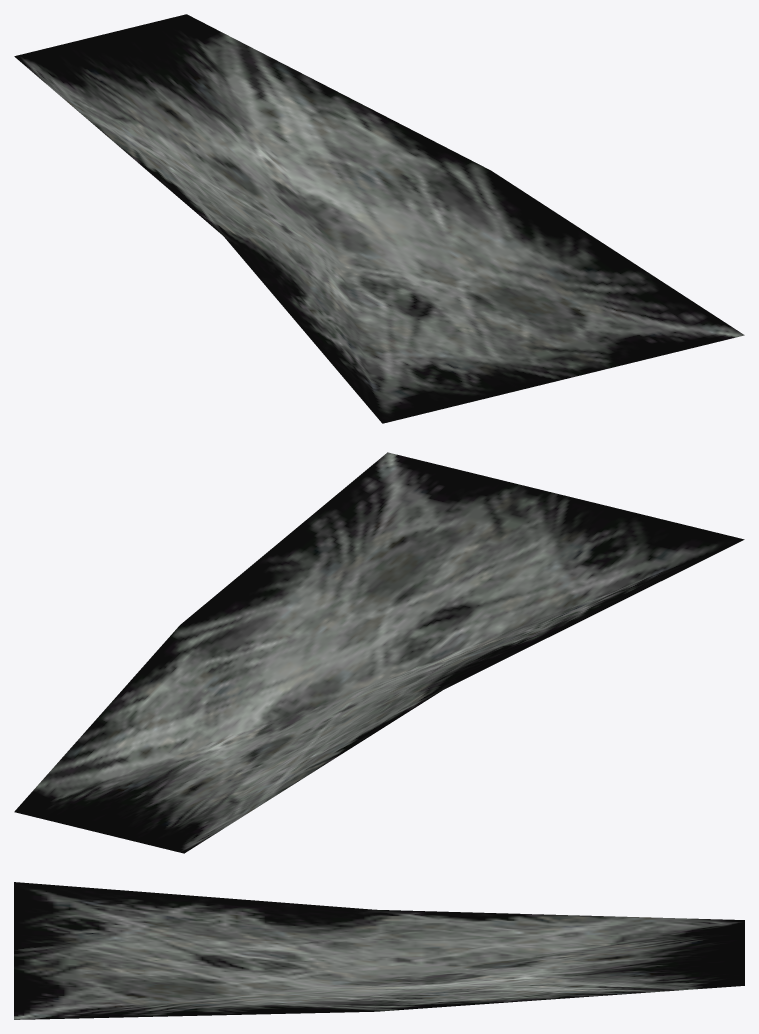
File: S_Build_Forest069.FBX
3 renders of one model, top to bottom at view 1: azimuth 30°, elevation 25°; view 2: azimuth 150°, elevation 25°; view 3: azimuth 270°, elevation 25°, orthographic. The views are drawn at different scales.
Visible parts, largest first — view 1: S_Build_Forest069; view 2: S_Build_Forest069; view 3: S_Build_Forest069.
Boxes of the visible parts, x1=… form: S_Build_Forest069: x1=14, y1=14, x2=744, y2=423; S_Build_Forest069: x1=14, y1=452, x2=744, y2=853; S_Build_Forest069: x1=14, y1=882, x2=744, y2=1019.
Size of the model in its own units: 386 by 865 by 37.41.
